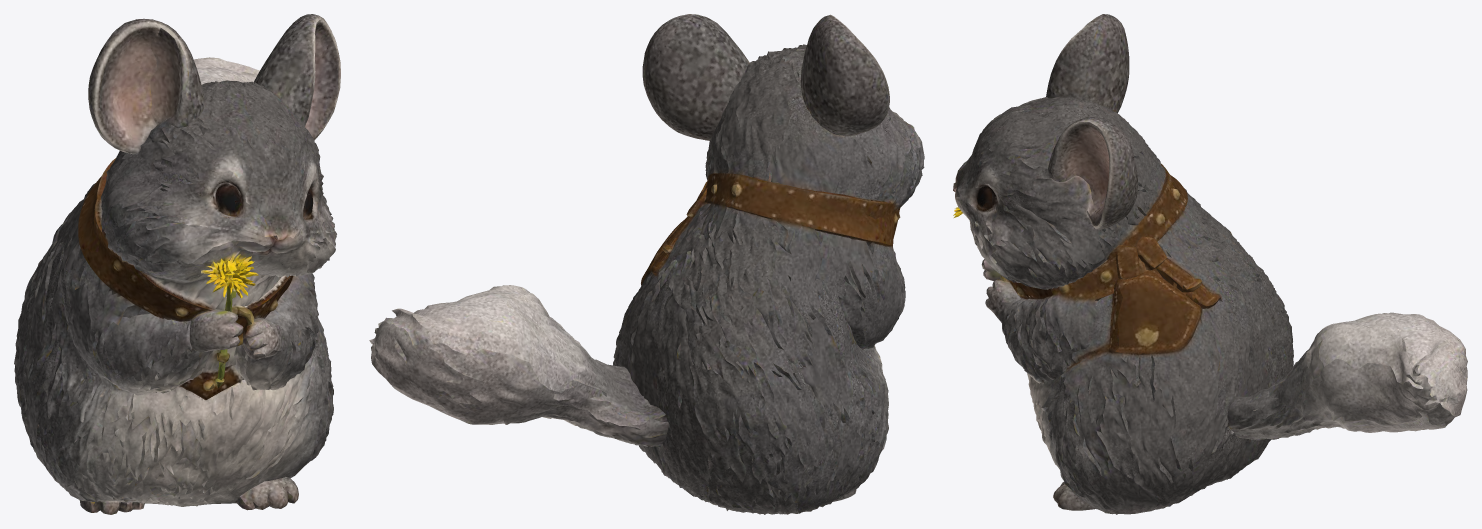
File: hero_chinchilla_lite.glb
The picture shows the model from 3 angles, left to right: view 1: azimuth 30°, elevation 25°; view 2: azimuth 150°, elevation 25°; view 3: azimuth 270°, elevation 25°; orthographic projection. The views are drawn at different scales.
Visible parts, largest first — view 1: geometry_0; view 2: geometry_0; view 3: geometry_0.
Boxes of the visible parts, x1,y1,x2,y2 form: geometry_0: [14, 14, 340, 514]; geometry_0: [369, 14, 924, 514]; geometry_0: [953, 14, 1467, 514].
Bounding box in the file's own units: 1.45 × 1.78 × 1.9.
1 material, 1 textured.
